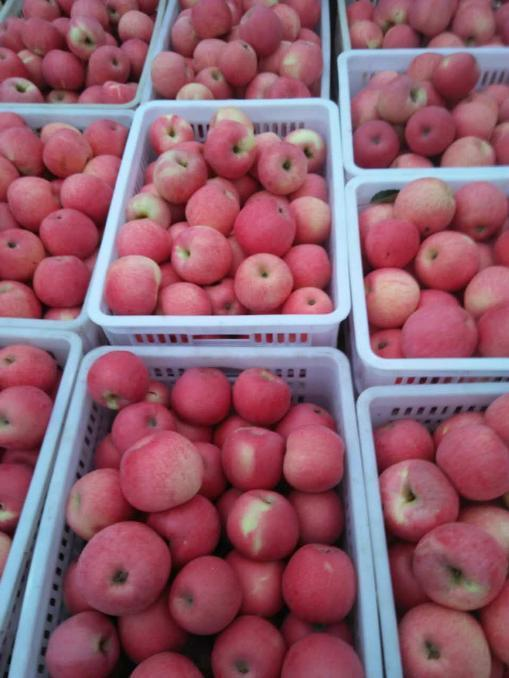apple: (413, 523, 507, 612), (78, 520, 167, 609), (375, 460, 459, 545), (398, 600, 489, 678), (118, 430, 205, 507), (283, 544, 359, 625), (432, 423, 508, 501), (225, 488, 302, 562), (169, 555, 238, 631), (150, 493, 221, 560), (280, 427, 348, 492), (411, 231, 481, 294), (218, 427, 283, 491), (401, 304, 477, 355), (170, 367, 234, 426), (392, 178, 457, 235), (233, 200, 298, 257), (231, 254, 293, 313), (150, 144, 208, 206), (103, 255, 160, 317), (232, 367, 290, 427), (170, 223, 228, 283), (88, 351, 146, 411), (203, 119, 256, 178), (366, 269, 418, 327), (255, 139, 307, 197), (1, 345, 59, 395), (34, 253, 88, 306), (37, 208, 94, 258), (402, 107, 455, 159), (430, 53, 479, 106), (8, 177, 58, 227), (352, 121, 398, 170), (60, 172, 109, 217), (1, 229, 44, 277), (282, 127, 323, 172), (85, 46, 130, 86)
